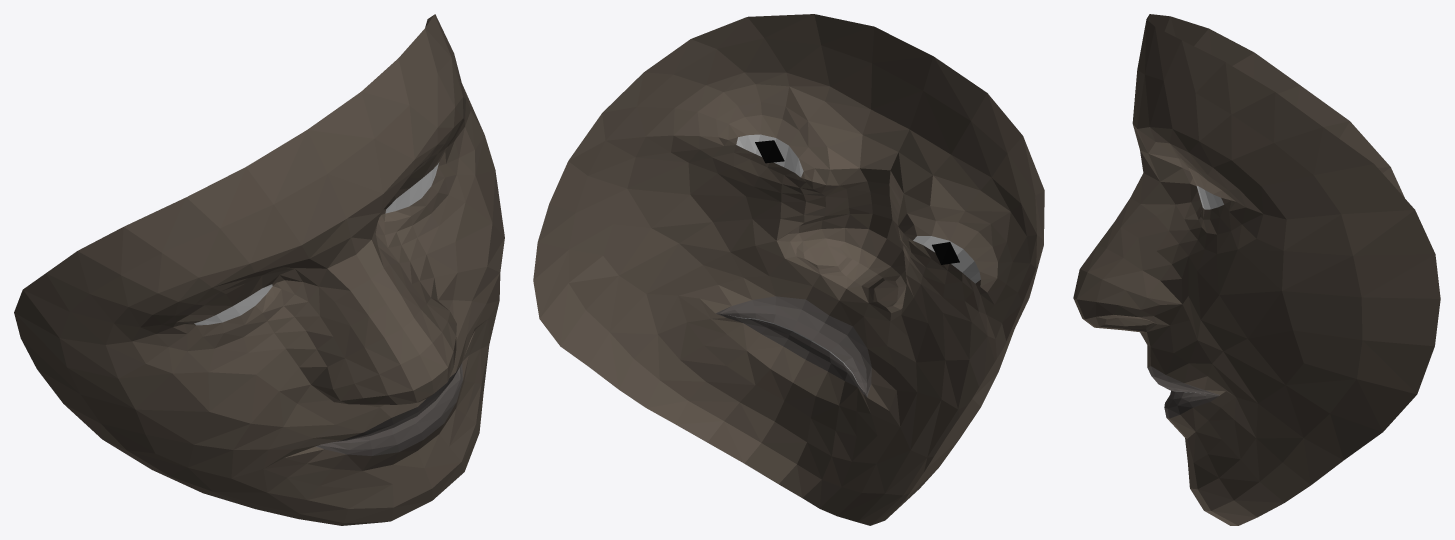
File: frame_00294.obj
The picture shows the model from 3 angles, left to right: view 1: azimuth 30°, elevation 25°; view 2: azimuth 150°, elevation 25°; view 3: azimuth 270°, elevation 25°; orthographic projection. The views are drawn at different scales.
Visible parts, largest first — view 1: face_model_with_iris; view 2: face_model_with_iris; view 3: face_model_with_iris.
Boxes of the visible parts, box(x1,y1,x2,y2) form: face_model_with_iris: box(14, 14, 504, 525); face_model_with_iris: box(533, 14, 1044, 525); face_model_with_iris: box(1073, 14, 1440, 525).
Size of the model in its own units: 0.5308 by 0.5343 by 0.3741.
